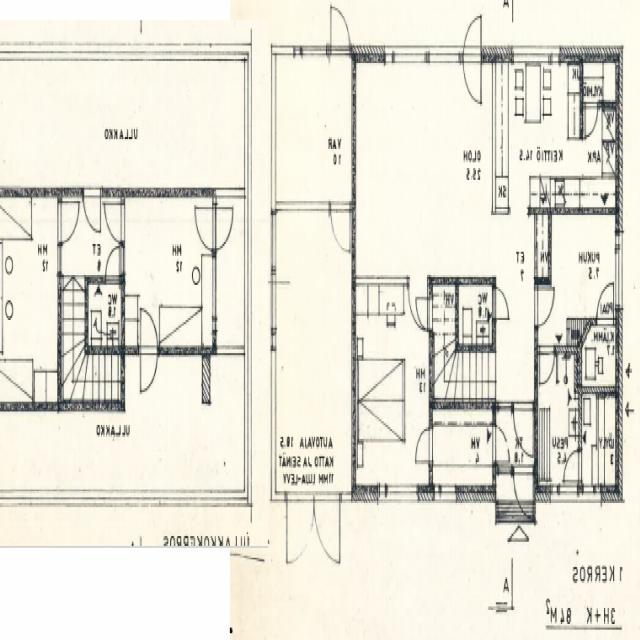door: (313, 490, 340, 560), (287, 490, 313, 560), (331, 1, 350, 56), (331, 200, 350, 253), (514, 463, 532, 518), (464, 4, 481, 62), (194, 206, 217, 248), (464, 45, 481, 101), (58, 201, 80, 243), (514, 400, 532, 451), (409, 276, 427, 325), (83, 187, 101, 236), (213, 206, 234, 248), (140, 306, 158, 354), (140, 345, 158, 392), (104, 203, 125, 242), (597, 279, 614, 325), (534, 288, 554, 326), (492, 424, 512, 459), (414, 427, 434, 461), (540, 345, 554, 387), (416, 297, 434, 329), (492, 286, 509, 318), (106, 244, 119, 284), (566, 450, 582, 480)
